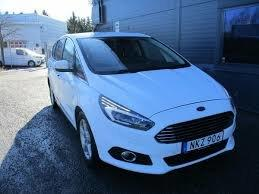license-plates: (180, 129, 223, 155)
